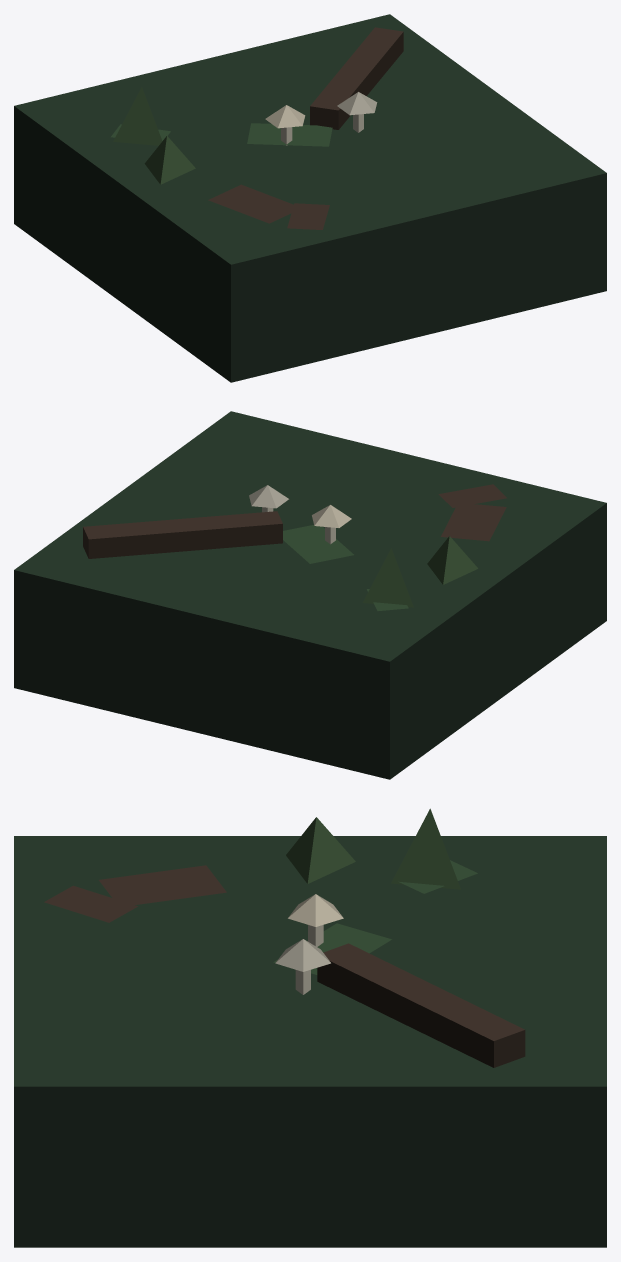
The model's file is f_floor_b.glb.
3 renders of one model, top to bottom at view 1: azimuth 30°, elevation 25°; view 2: azimuth 150°, elevation 25°; view 3: azimuth 270°, elevation 25°, orthographic. The views are drawn at different scales.
Visible parts, largest first — view 1: f_floor_b; view 2: f_floor_b; view 3: f_floor_b.
Part boxes in pixels (x1,y1,x2,y2): f_floor_b: (14,14,606,382); f_floor_b: (14,411,606,779); f_floor_b: (14,808,606,1247).
Bounding box in the file's own units: 1 × 0.4299 × 1.
